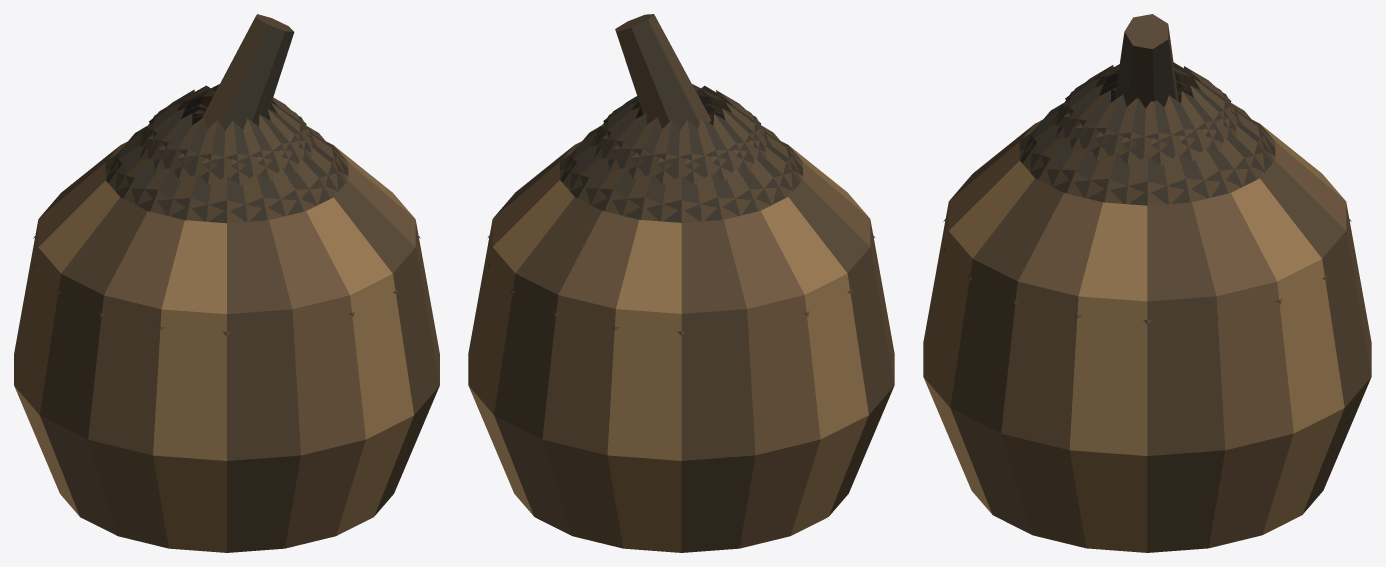
The picture shows the model from 3 angles, left to right: view 1: azimuth 30°, elevation 25°; view 2: azimuth 150°, elevation 25°; view 3: azimuth 270°, elevation 25°; orthographic projection. The views are drawn at different scales.
Parts seen in each view (by area): view 1: fallen-acorn · evaluated preview mesh; view 2: fallen-acorn · evaluated preview mesh; view 3: fallen-acorn · evaluated preview mesh.
Part boxes in pixels (x1,y1,x2,y2): fallen-acorn · evaluated preview mesh: (14,14,439,552); fallen-acorn · evaluated preview mesh: (468,14,894,552); fallen-acorn · evaluated preview mesh: (923,14,1371,552).
Size of the model in its own units: 1.58 by 2.03 by 1.56.
